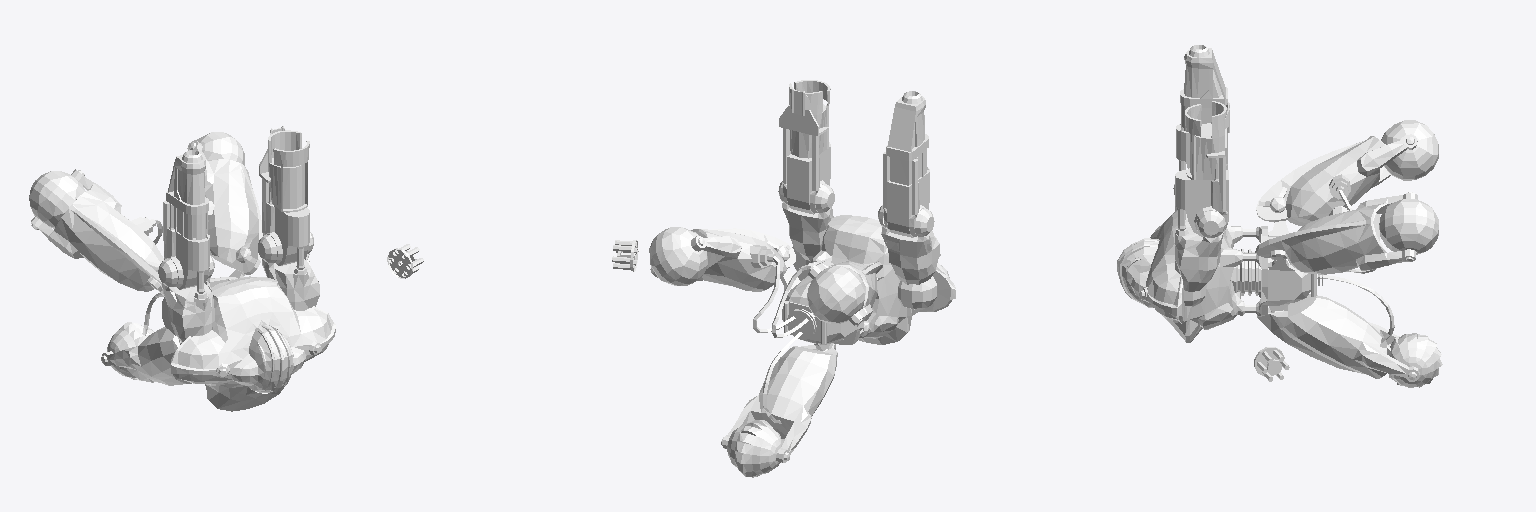
The model's file is asdfasdf.obj.
3 views of the same model, side by side, from view 1: azimuth 30°, elevation 25°; view 2: azimuth 150°, elevation 25°; view 3: azimuth 270°, elevation 25° (orthographic).
Parts seen in each view (by area): view 1: SBTorso, SBLeftFender, SBRightGatlingLaser, SBRightFender, SBLeftMissileLauncher, limbcaps01, bodycaps01, SBRearFender, SBLeftTire, SBRightUpperArm, SBLeftUpperArm, SBRightTire (+2 smaller); view 2: SBTorso, SBRearFender, SBRightGatlingLaser, SBLeftMissileLauncher, SBRightFender, SBLeftTire, SBRightTire, SBRearTire, limbcaps01, SBRightUpperArm, SBLeftUpperArm, SBLeftFender (+2 smaller); view 3: SBTorso, SBLeftFender, SBRearFender, SBRightFender, SBRightGatlingLaser, SBLeftMissileLauncher, SBRightTire, limbcaps01, SBLeftTire, SBRearTire, SBRightUpperArm, SBRightLaserTurret:0.
Part boxes in pixels (x1,y1,x2,y2): SBTorso: (147, 269, 335, 411); SBLeftFender: (31, 169, 163, 291); SBRightGatlingLaser: (259, 126, 309, 274); SBRightFender: (187, 140, 262, 274); SBLeftMissileLauncher: (163, 150, 209, 298); limbcaps01: (161, 281, 319, 389); bodycaps01: (164, 277, 314, 394); SBRearFender: (101, 327, 185, 385); SBLeftTire: (29, 171, 85, 228); SBRightUpperArm: (258, 232, 317, 288); SBLeftUpperArm: (158, 255, 214, 342); SBRightTire: (196, 132, 244, 165); SBTorso: (781, 215, 955, 351); SBRearFender: (721, 343, 837, 462); SBRightGatlingLaser: (779, 80, 830, 214); SBLeftMissileLauncher: (883, 91, 929, 237); SBRightFender: (650, 228, 795, 291); SBLeftTire: (807, 266, 864, 323); SBRightTire: (649, 227, 707, 285); SBRearTire: (727, 420, 782, 477); limbcaps01: (789, 226, 940, 347); SBRightUpperArm: (778, 181, 834, 260); SBLeftUpperArm: (878, 205, 938, 284); SBLeftFender: (807, 260, 882, 325); SBTorso: (1117, 210, 1316, 342); SBLeftFender: (1256, 134, 1417, 226); SBRearFender: (1257, 294, 1419, 381); SBRightFender: (1256, 192, 1417, 274); SBRightGatlingLaser: (1175, 101, 1229, 236); SBLeftMissileLauncher: (1176, 45, 1227, 170); SBRightTire: (1379, 199, 1438, 254); limbcaps01: (1139, 184, 1279, 310); SBLeftTire: (1381, 120, 1438, 180); SBRearTire: (1387, 333, 1442, 387); SBRightUpperArm: (1175, 211, 1225, 291); SBRightLaserTurret:0: (1254, 347, 1289, 381).
Bounding box in the file's own units: 156 × 147 × 137.